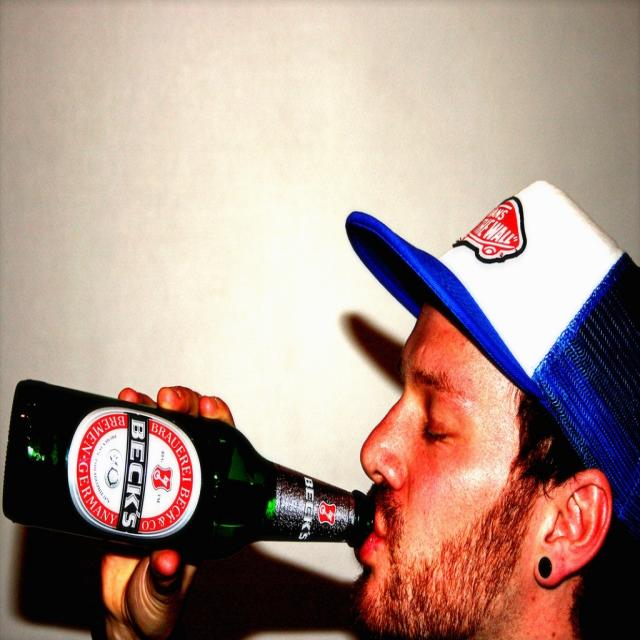becks: (68, 408, 204, 540)
